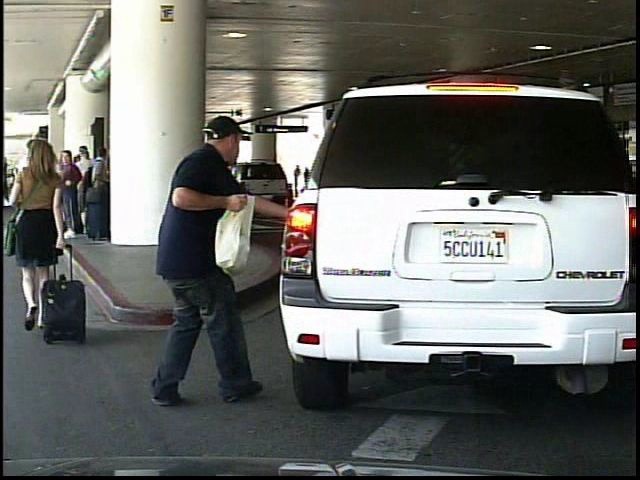person: (146, 107, 282, 415), (7, 135, 70, 341)
